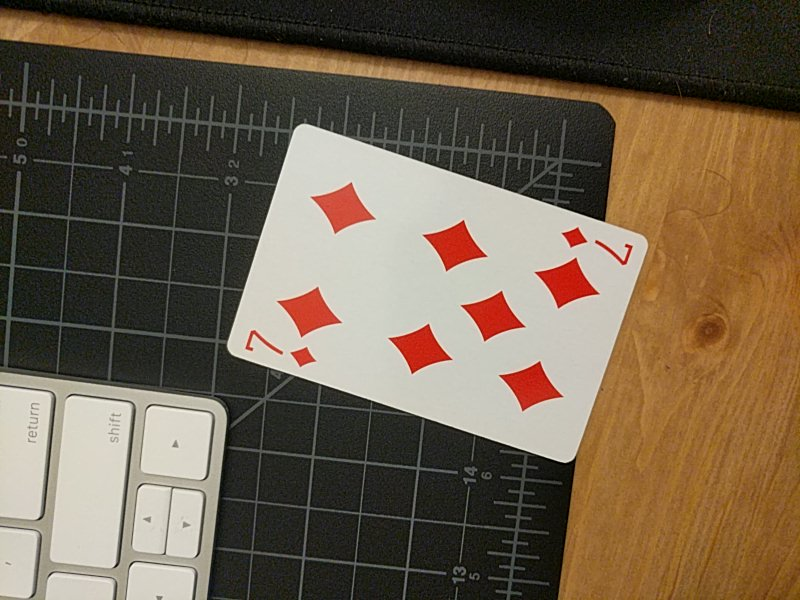Diamonds: (225, 122, 648, 473)
